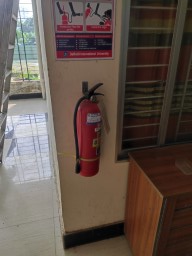fire_extinguisher: (61, 110, 133, 157)
